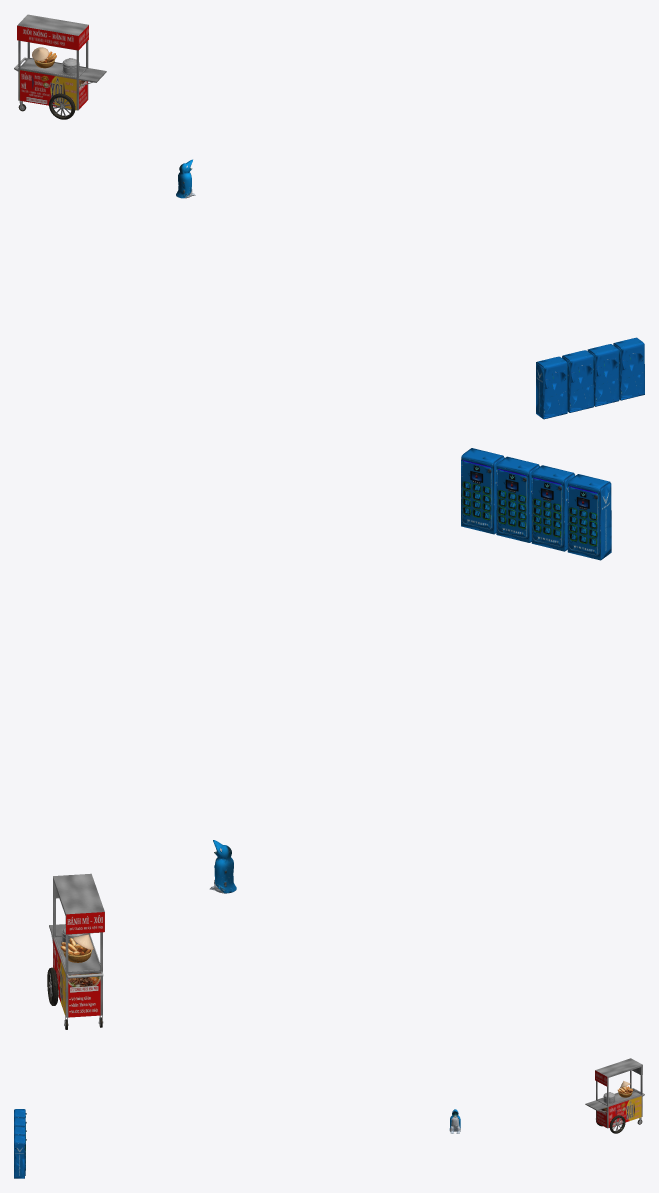
The model's file is street-props.optimized.glb.
3 renders of one model, top to bottom at view 1: azimuth 30°, elevation 25°; view 2: azimuth 150°, elevation 25°; view 3: azimuth 270°, elevation 25°, orthographic. The views are drawn at different scales.
Visible parts, largest first — view 1: BanhMiCart, doipin (3), doipin (2), doipin (1), doipin; view 2: BanhMiCart, doipin (3), doipin (2), doipin, doipin (1), bin; view 3: BanhMiCart, doipin, bin.
Boxes of the visible parts, <box> form: BanhMiCart: <box>14,14,106,119</box>; doipin (3): <box>536,356,567,419</box>; doipin (2): <box>562,350,593,412</box>; doipin (1): <box>587,344,619,406</box>; doipin: <box>613,337,644,400</box>; BanhMiCart: <box>47,873,104,1029</box>; doipin (3): <box>567,474,611,560</box>; doipin (2): <box>531,465,575,551</box>; doipin: <box>461,448,504,534</box>; doipin (1): <box>496,456,539,542</box>; bin: <box>209,840,236,893</box>; BanhMiCart: <box>585,1058,644,1133</box>; doipin: <box>14,1135,26,1178</box>; bin: <box>449,1109,460,1133</box>.
Bounding box in the file's own units: 9.52 × 4.31 × 41.39.
4 materials, 4 textured.
